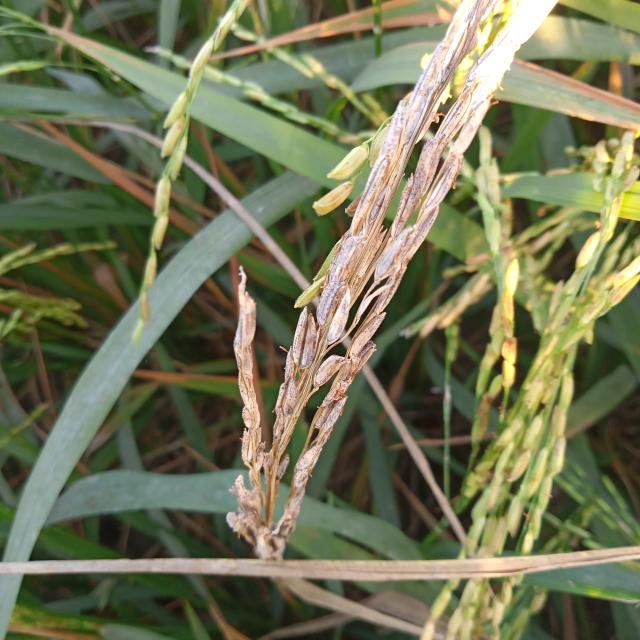Neck_Blast: (293, 100, 491, 491), (235, 102, 429, 481)
